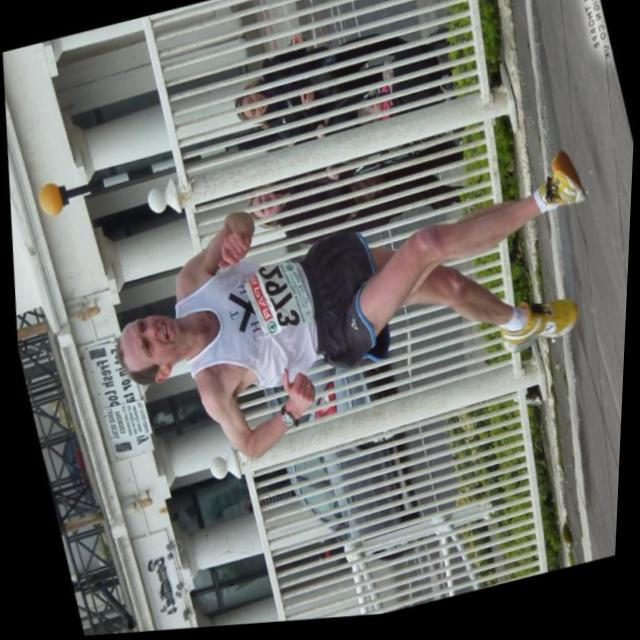dorsal: (224, 242, 335, 364)
